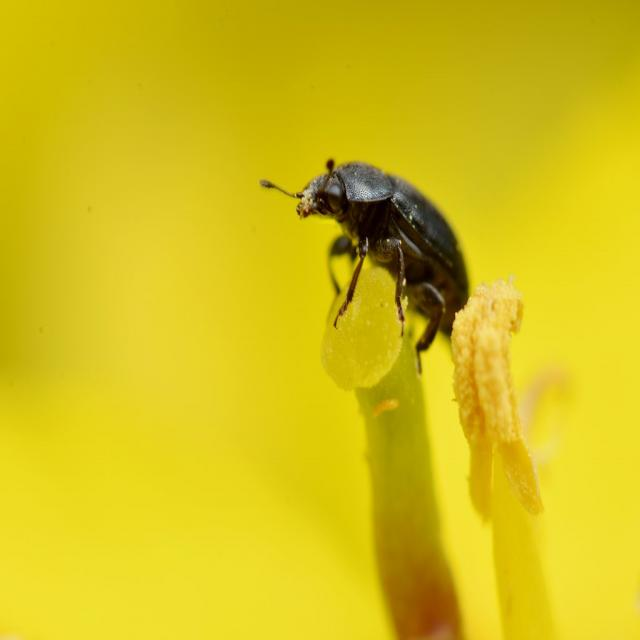pollen_beetle: (254, 126, 476, 373)
